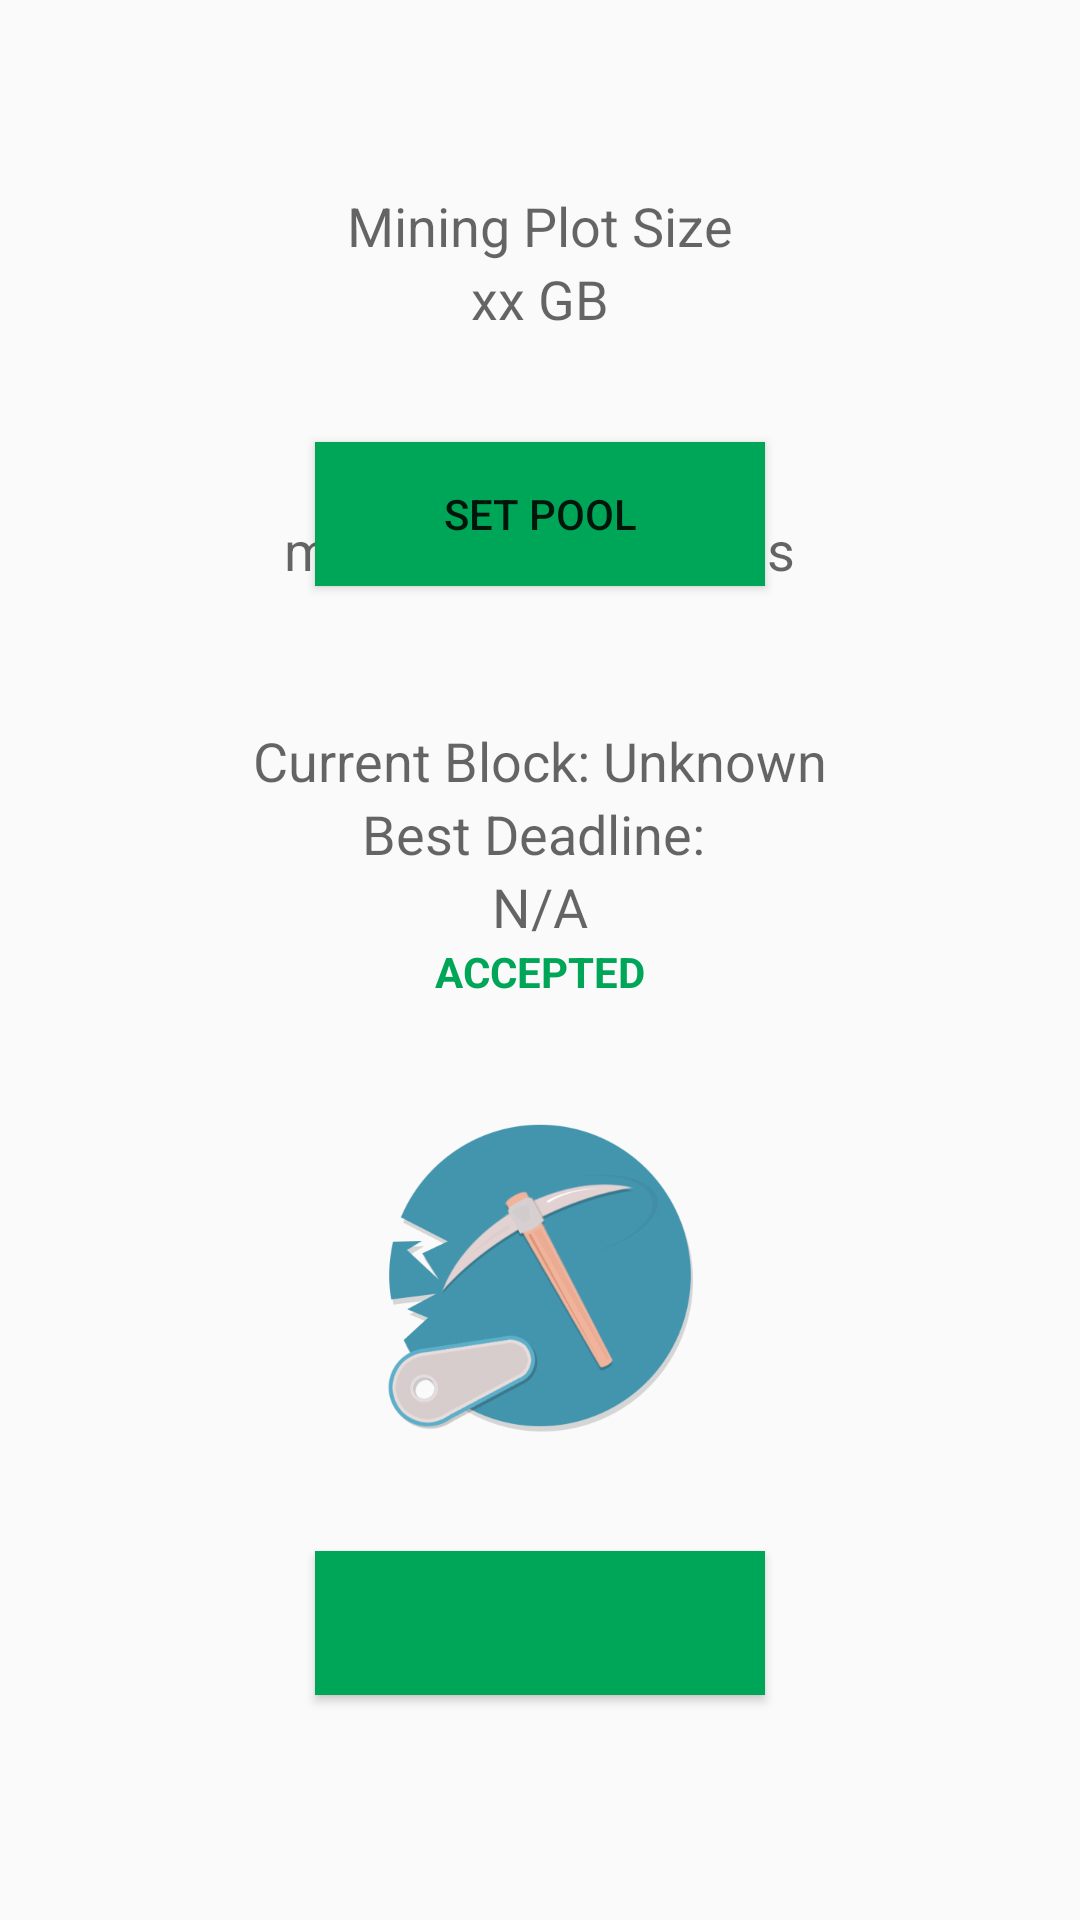

Icon bounding boxes for this 1080x1920 phone screenshot, format [left=x1, top=y1, right=x2, bottom=y2]:
mined: [left=388, top=1124, right=693, bottom=1431]
